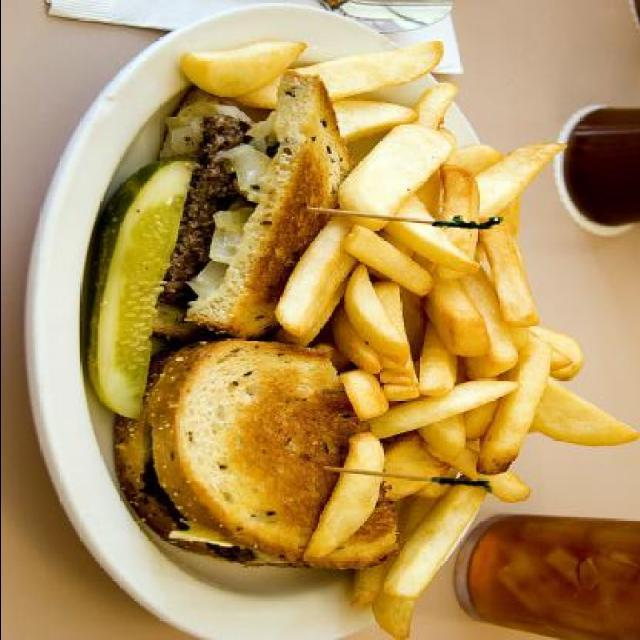Sandwich: (108, 334, 400, 572), (162, 69, 356, 340)
